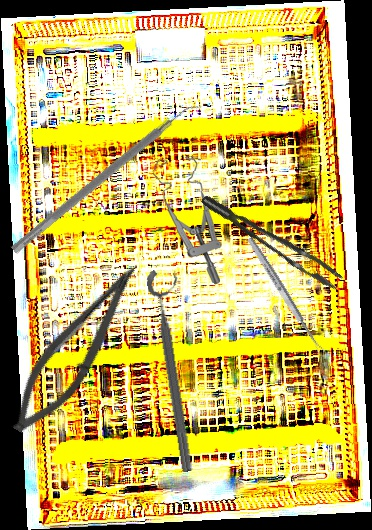Fixation Ring: (145, 266, 209, 474)
Micro Scissor: (0, 251, 148, 447)
Spatula Surgical: (10, 94, 205, 262)
Speculum: (147, 154, 227, 284)
Surgical Spoon: (245, 235, 326, 357)
Tissue Forceps: (200, 177, 345, 303)
